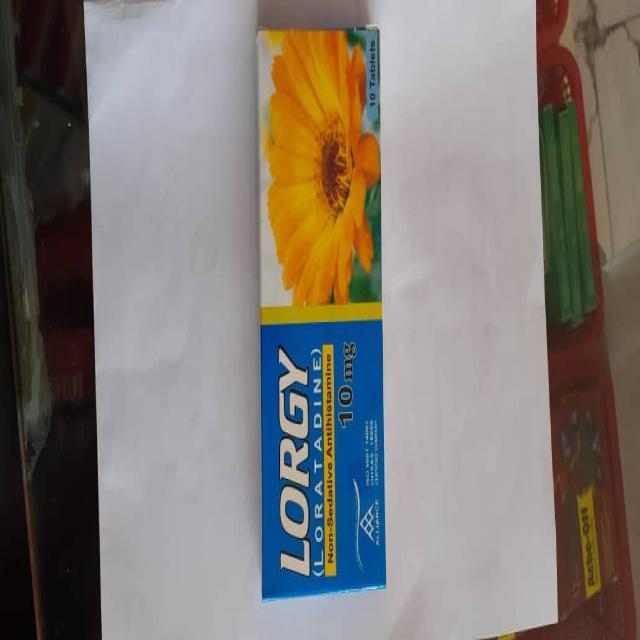drug-name: (278, 342, 310, 578)
